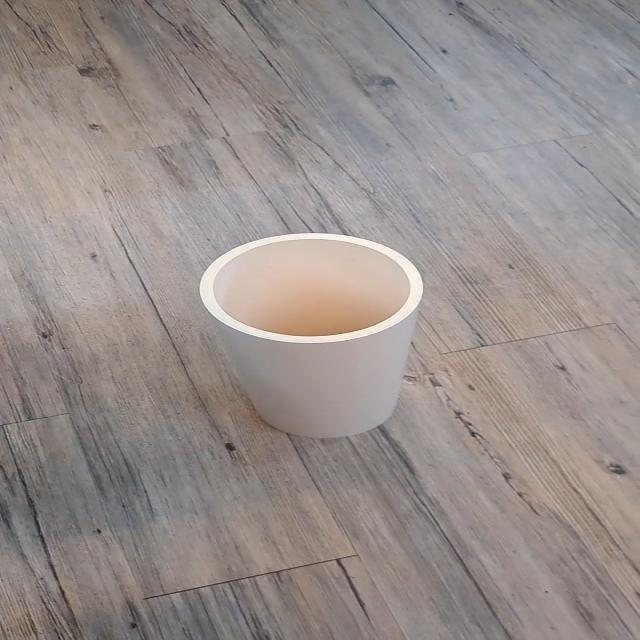CORAL: (188, 206, 462, 452)
